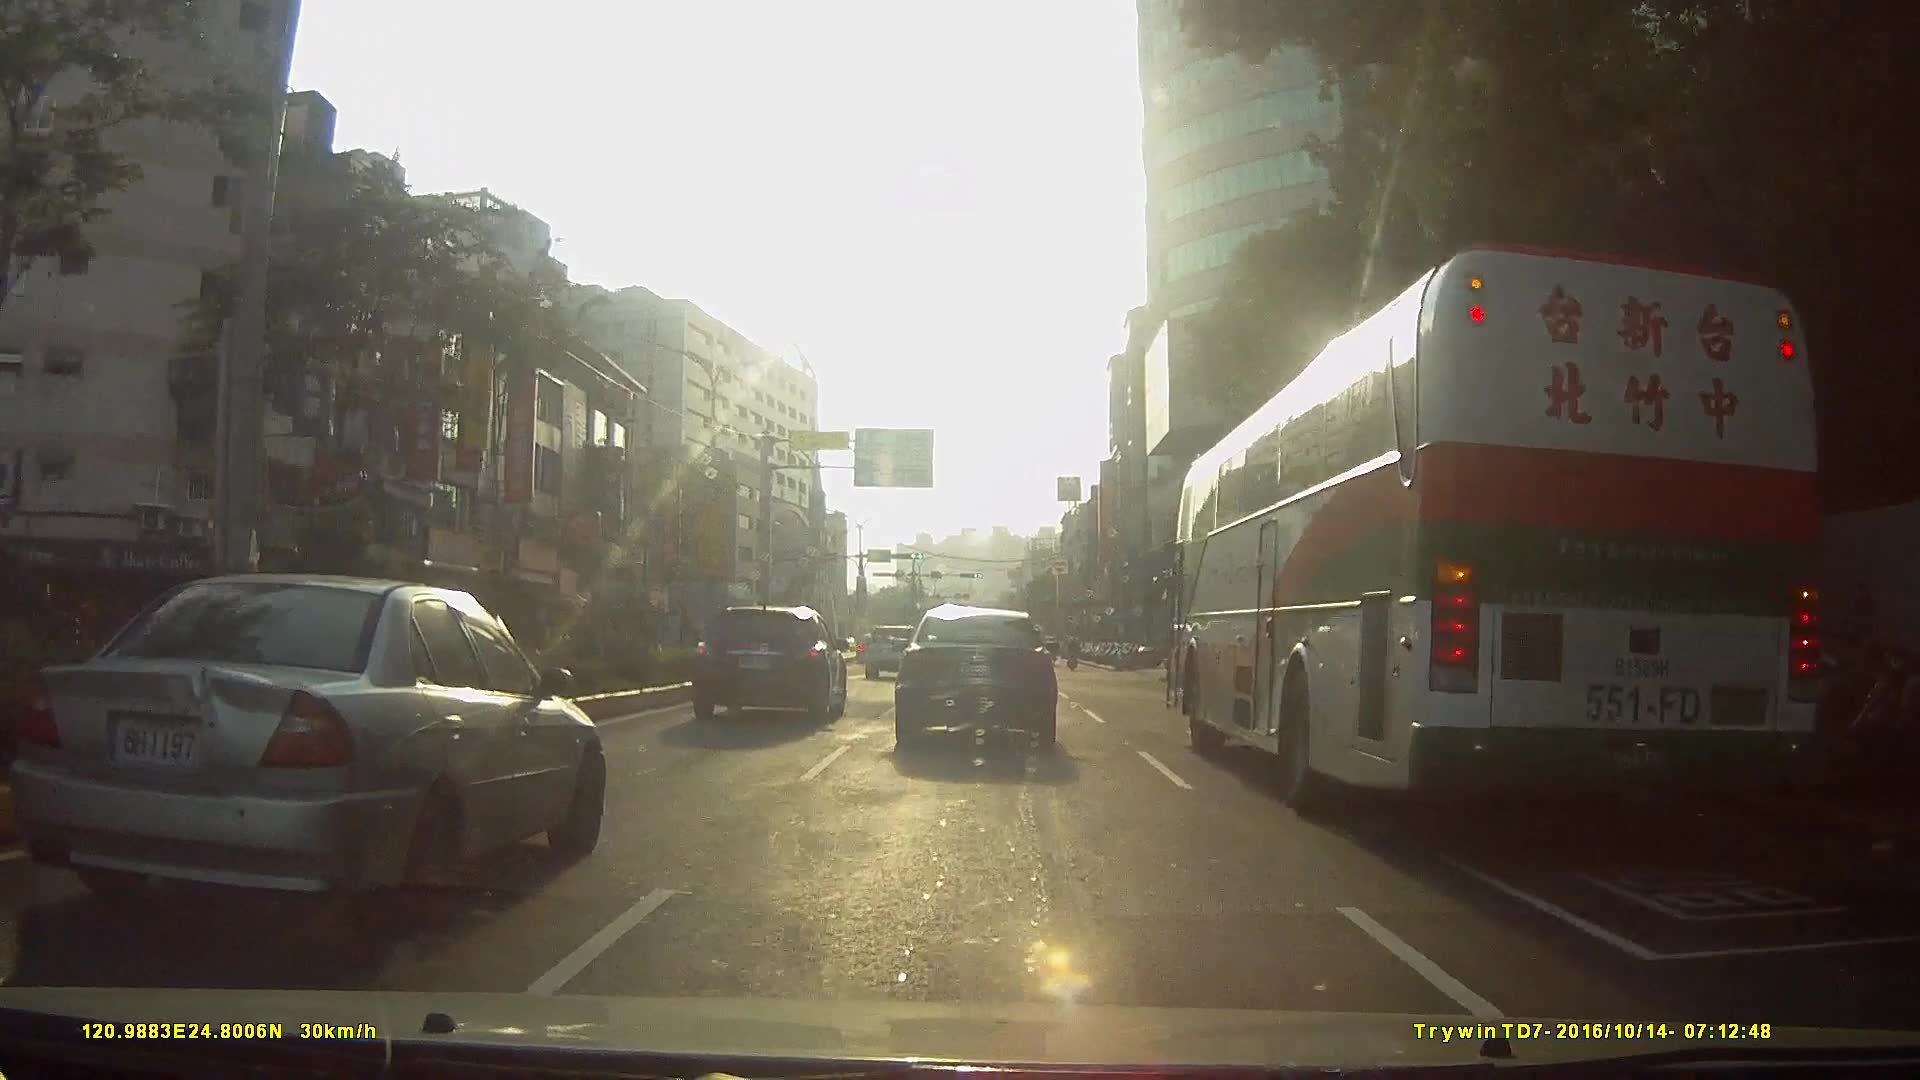vehicle: (1174, 204, 1904, 832), (0, 568, 603, 938), (891, 603, 1058, 752), (691, 603, 848, 723), (861, 624, 920, 682)
